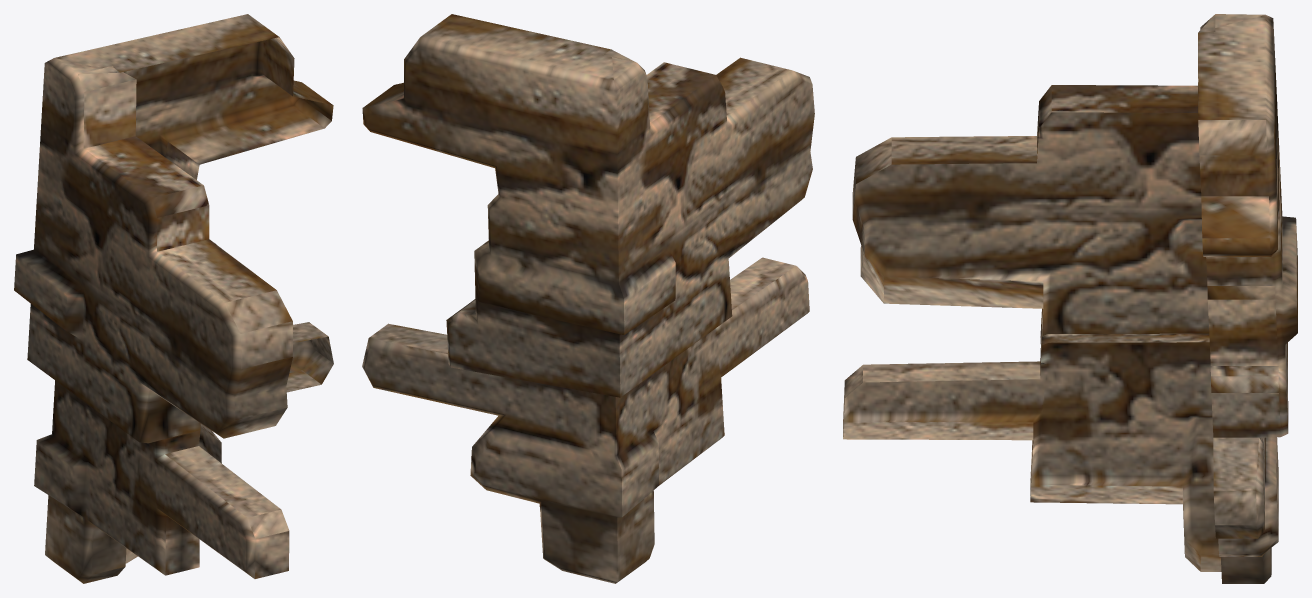
File: lower_city_wall_decor_02.fbx
The picture shows the model from 3 angles, left to right: view 1: azimuth 30°, elevation 25°; view 2: azimuth 150°, elevation 25°; view 3: azimuth 270°, elevation 25°; orthographic projection. The views are drawn at different scales.
Parts seen in each view (by area): view 1: lower_city_wall_decor_02; view 2: lower_city_wall_decor_02; view 3: lower_city_wall_decor_02.
Boxes of the visible parts, x1=… form: lower_city_wall_decor_02: x1=14, y1=14, x2=333, y2=583; lower_city_wall_decor_02: x1=362, y1=14, x2=814, y2=583; lower_city_wall_decor_02: x1=843, y1=14, x2=1297, y2=583.
Size of the model in its own units: 0.5852 by 1 by 0.7642.
